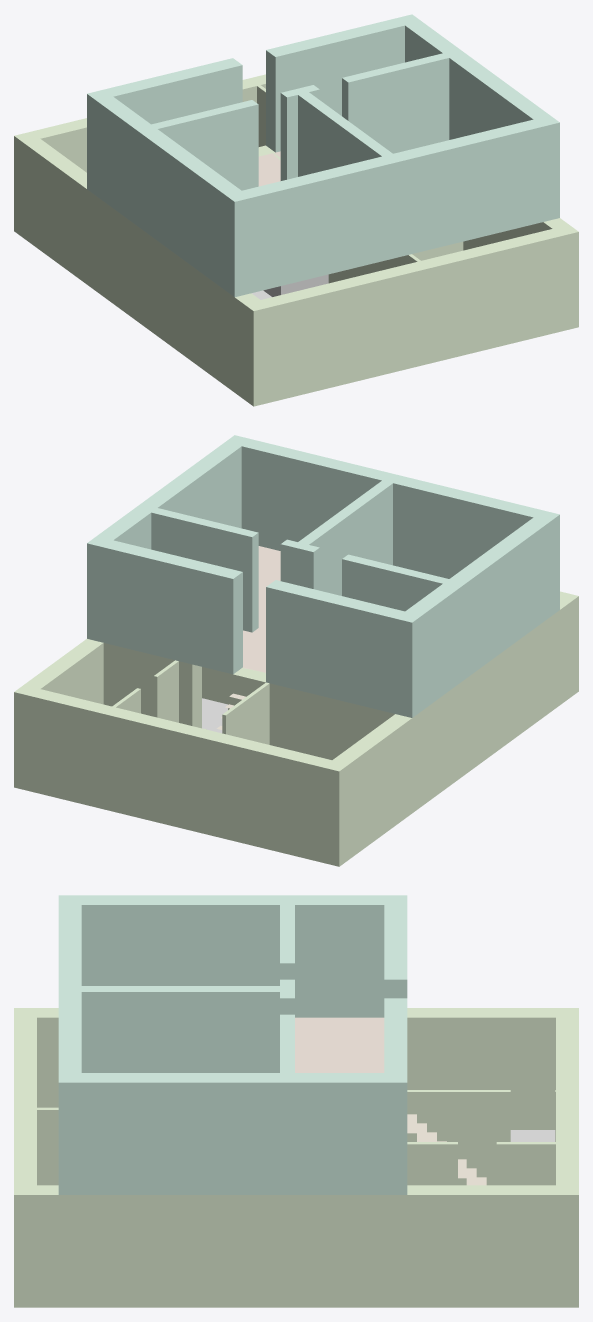
Rendered from asset.glb.
The picture shows the model from 3 angles, top to bottom: view 1: azimuth 30°, elevation 25°; view 2: azimuth 150°, elevation 25°; view 3: azimuth 270°, elevation 25°; orthographic projection. The views are drawn at different scales.
Visible parts, largest first — view 1: Shape_IndexedFaceSet.003, Shape_IndexedFaceSet.002, Shape_IndexedFaceSet.001, Cube; view 2: Shape_IndexedFaceSet.003, Shape_IndexedFaceSet.002, Shape_IndexedFaceSet.001, Shape_IndexedFaceSet; view 3: Shape_IndexedFaceSet.002, Shape_IndexedFaceSet.003, Shape_IndexedFaceSet.001, Shape_IndexedFaceSet.004, Shape_IndexedFaceSet.
Part boxes in pixels (box(x1,y1,x2,y2)): Shape_IndexedFaceSet.003: box(87, 14, 559, 297); Shape_IndexedFaceSet.002: box(14, 74, 578, 406); Shape_IndexedFaceSet.001: box(258, 151, 280, 186); Cube: box(263, 274, 328, 296); Shape_IndexedFaceSet.003: box(87, 435, 559, 717); Shape_IndexedFaceSet.002: box(14, 591, 578, 866); Shape_IndexedFaceSet.001: box(243, 546, 280, 672); Shape_IndexedFaceSet: box(202, 698, 227, 733); Shape_IndexedFaceSet.002: box(14, 1008, 578, 1307); Shape_IndexedFaceSet.003: box(58, 895, 407, 1194); Shape_IndexedFaceSet.001: box(295, 1017, 384, 1072); Shape_IndexedFaceSet.004: box(407, 1114, 486, 1185); Shape_IndexedFaceSet: box(510, 1130, 555, 1141).
Size of the model in its own units: 8.92 by 6 by 11.38.
